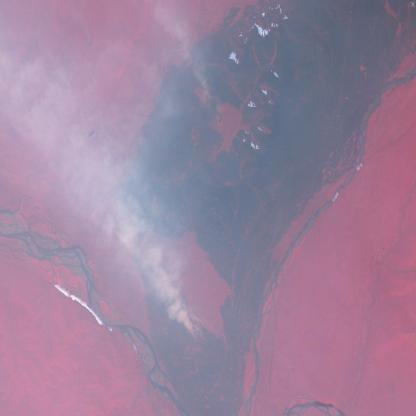fire: (122, 231, 209, 360), (156, 48, 224, 131), (87, 36, 95, 52)
